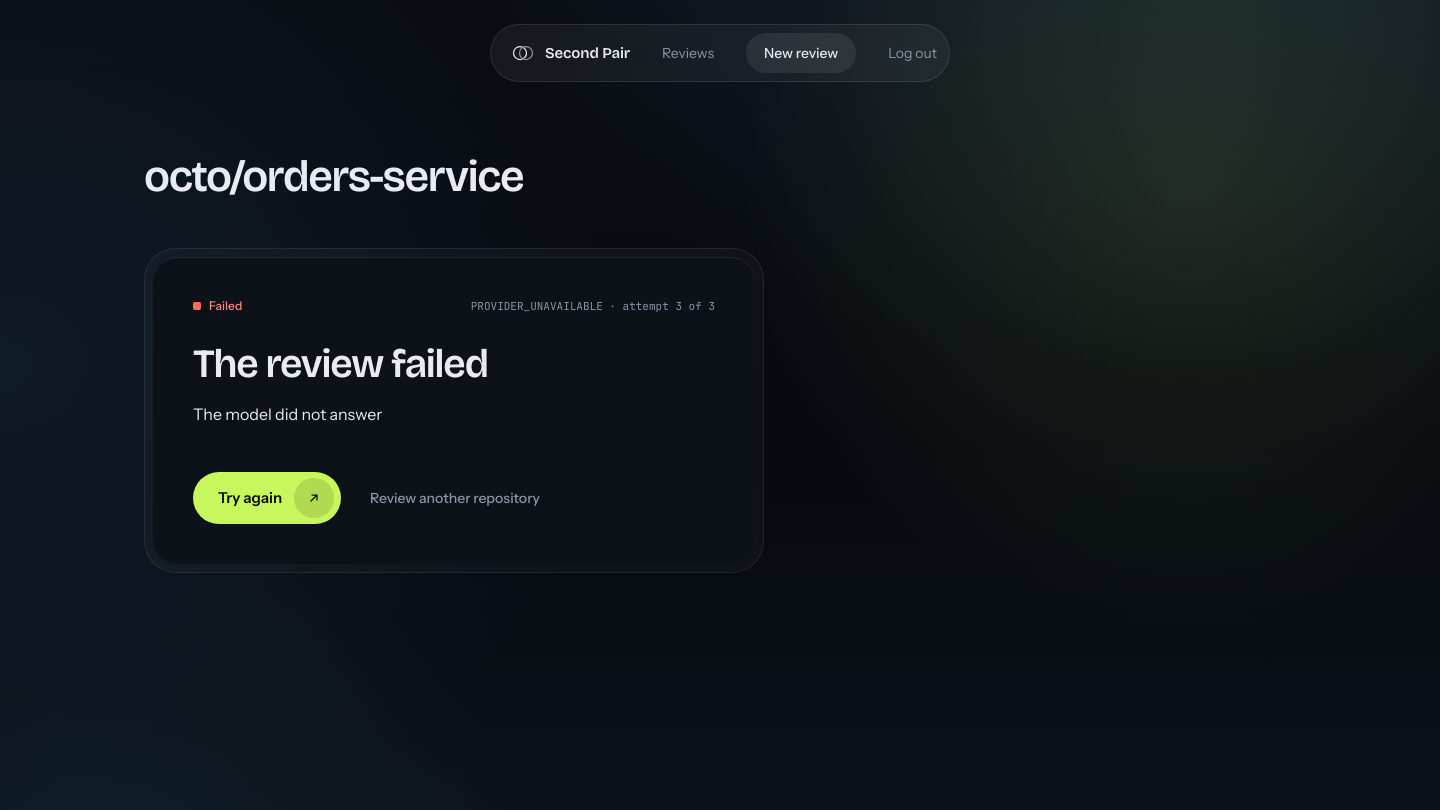
ReviewPage › shows a failure with its message and offers to try again when that can help
This screenshot has width=1440, height=810.
Expected: the heading "The review failed" is shown, top-left (193, 343), bottom-right (488, 386)
Expected: the text "The model did not answer" is shown, top-left (193, 402), bottom-right (382, 428)
Click the button "Try again".
click(267, 498)  # box top-left (193, 472), bottom-right (341, 524)
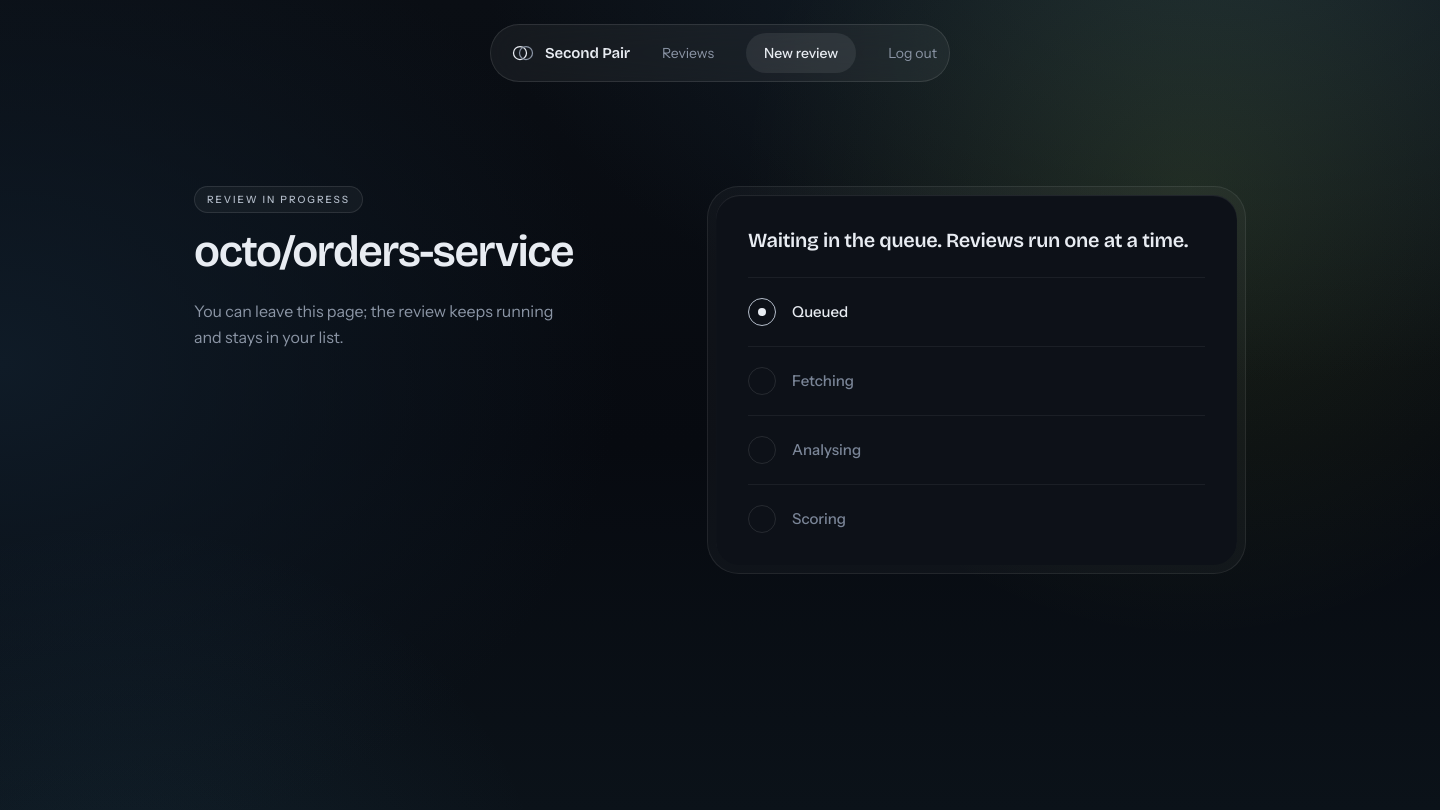
Expected: the text "Waiting in the queue. Reviews run one at a time." is shown, top-left (748, 227), bottom-right (1205, 253)
